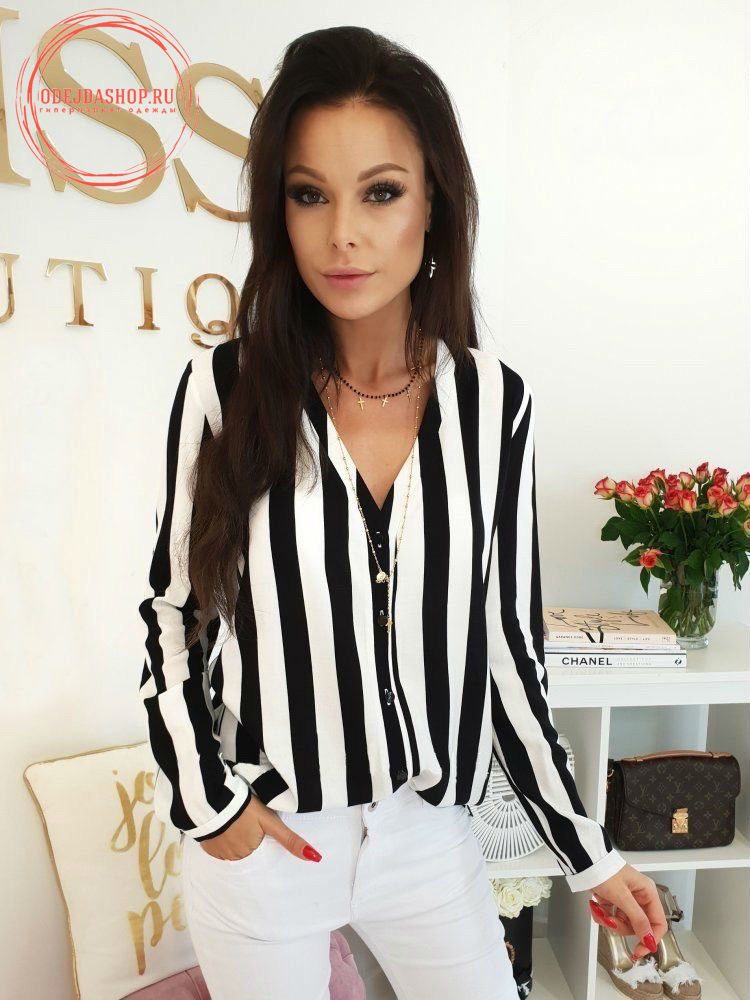striped: (127, 319, 642, 897)
